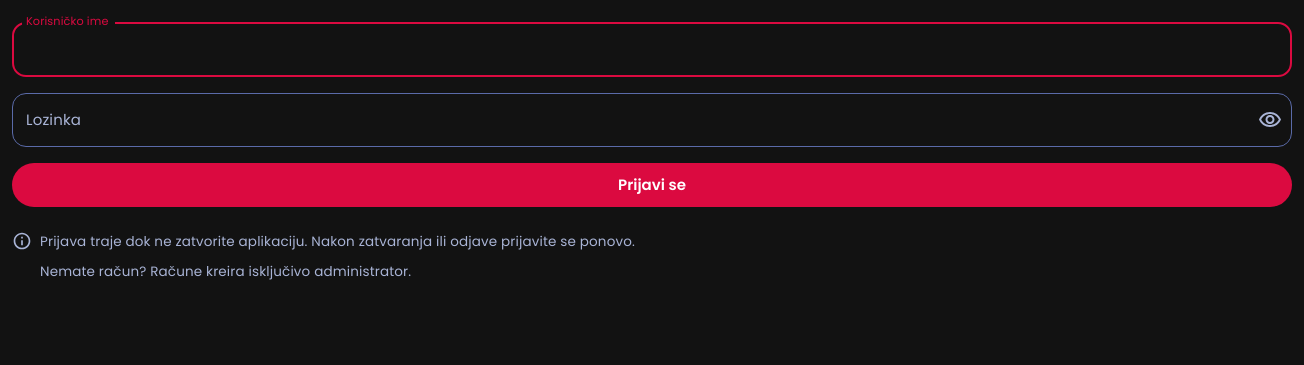
Test: LoginForm › shows the API's rejection without saying which half was wrong
The width and height of the screenshot is (1304, 365).
Type "admin" into the field labelled "Korisničko ime" at {"x": 652, "y": 49}, box [12, 22, 1292, 77]
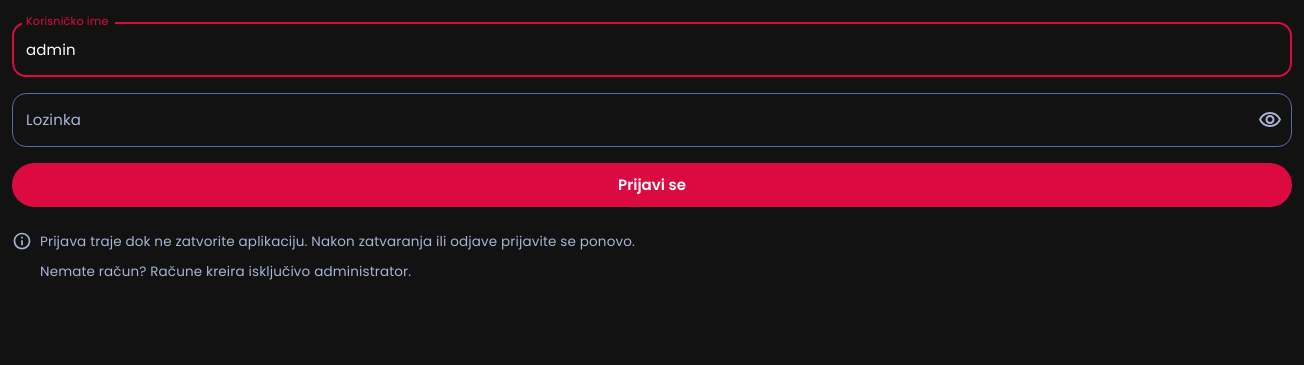
Type "pogresna" into the password field labelled "Lozinka" at {"x": 627, "y": 120}, box [12, 93, 1242, 147]
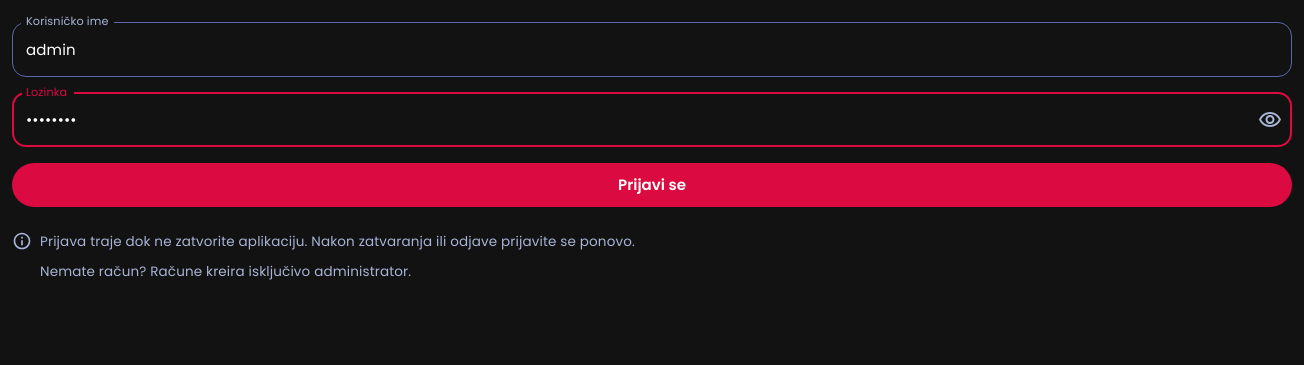
Click the button "Prijavi se" at {"x": 652, "y": 185}, box [12, 163, 1292, 207]
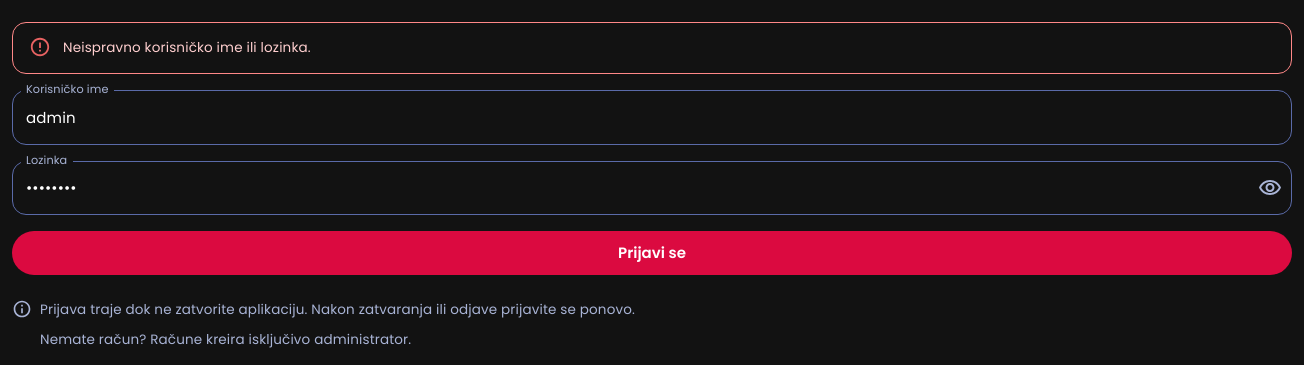
Now the message reads "Neispravno korisničko ime ili lozinka.", box [63, 38, 311, 57]
